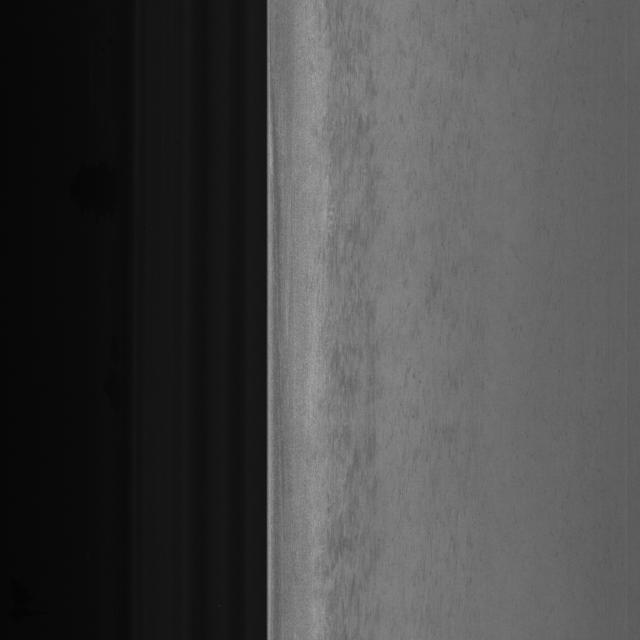inclusion: (326, 65, 388, 604)
